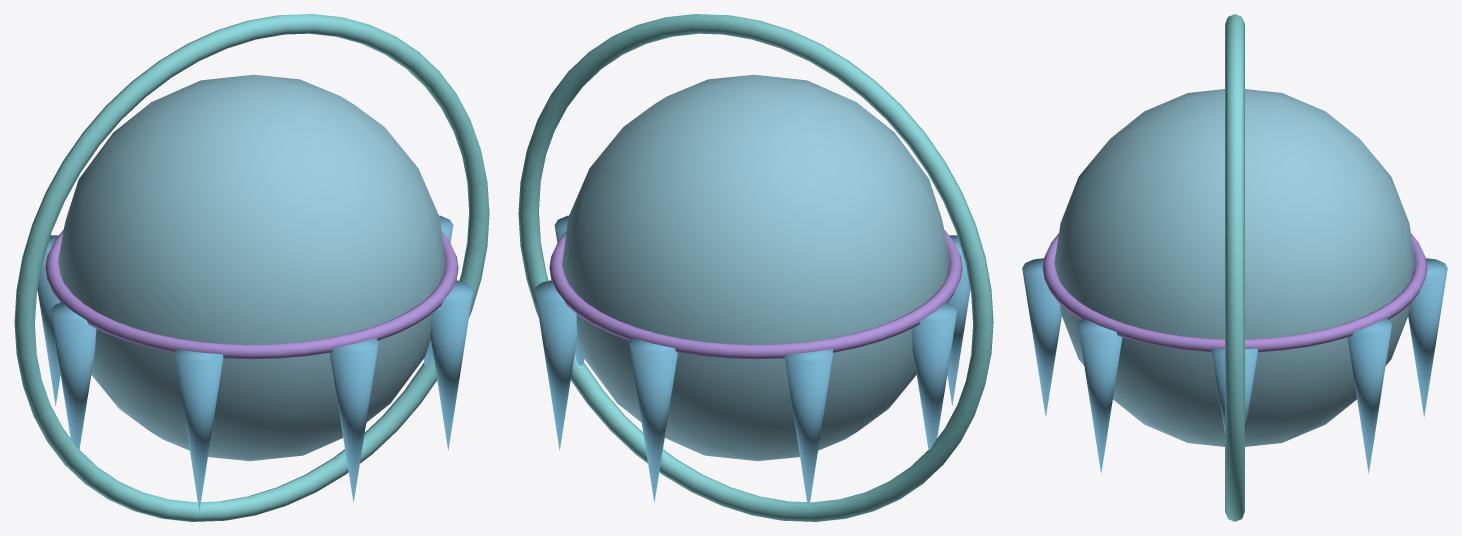
The model's file is star-memory-node-v1.gltf.
3 renders of one model, left to right at view 1: azimuth 30°, elevation 25°; view 2: azimuth 150°, elevation 25°; view 3: azimuth 270°, elevation 25°, orthographic. The views are drawn at different scales.
Parts seen in each view (by area): view 1: star-memory-node-v1-01, star-memory-node-v1-02, star-memory-node-v1-03, star-memory-node-v1-04, star-memory-node-v1-05, star-memory-node-v1-06, star-memory-node-v1-11, star-memory-node-v1-07; view 2: star-memory-node-v1-01, star-memory-node-v1-02, star-memory-node-v1-03, star-memory-node-v1-08, star-memory-node-v1-07, star-memory-node-v1-06, star-memory-node-v1-09, star-memory-node-v1-05; view 3: star-memory-node-v1-01, star-memory-node-v1-02, star-memory-node-v1-03, star-memory-node-v1-09, star-memory-node-v1-11, star-memory-node-v1-04, star-memory-node-v1-08, star-memory-node-v1-10.
Part boxes in pixels (x1,y1,x2,y2): star-memory-node-v1-01: [58, 74, 445, 461]; star-memory-node-v1-02: [14, 14, 489, 521]; star-memory-node-v1-03: [45, 230, 458, 359]; star-memory-node-v1-04: [330, 338, 378, 502]; star-memory-node-v1-05: [175, 349, 223, 510]; star-memory-node-v1-06: [50, 302, 96, 450]; star-memory-node-v1-11: [430, 280, 472, 450]; star-memory-node-v1-07: [37, 235, 60, 405]; star-memory-node-v1-01: [562, 74, 949, 461]; star-memory-node-v1-02: [518, 14, 993, 521]; star-memory-node-v1-03: [549, 230, 962, 359]; star-memory-node-v1-08: [629, 338, 677, 502]; star-memory-node-v1-07: [784, 349, 832, 510]; star-memory-node-v1-06: [911, 302, 957, 450]; star-memory-node-v1-09: [535, 280, 577, 450]; star-memory-node-v1-05: [947, 235, 970, 405]; star-memory-node-v1-01: [1054, 89, 1415, 446]; star-memory-node-v1-02: [1225, 14, 1244, 521]; star-memory-node-v1-03: [1042, 233, 1427, 352]; star-memory-node-v1-09: [1347, 318, 1391, 473]; star-memory-node-v1-11: [1078, 318, 1122, 473]; star-memory-node-v1-04: [1022, 258, 1061, 417]; star-memory-node-v1-08: [1408, 258, 1447, 417]; star-memory-node-v1-10: [1211, 348, 1258, 433].
Size of the model in its own units: 1.29 by 1.29 by 1.08.
